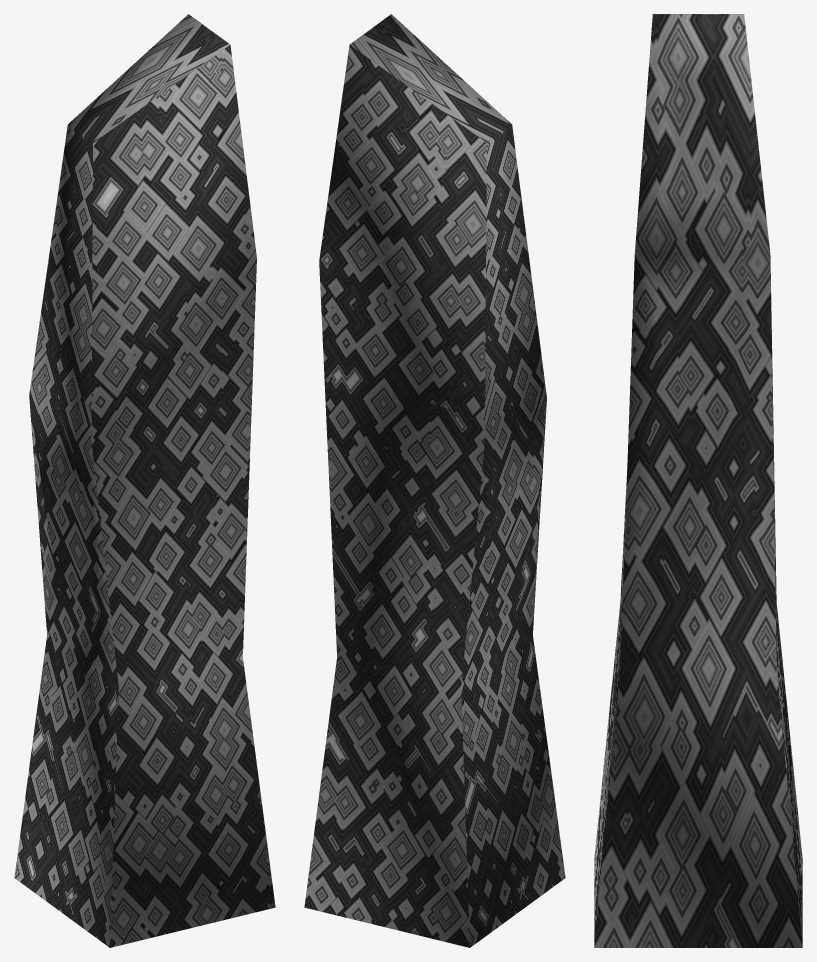
File: Cactus2.fbx
3 views of the same model, side by side, from view 1: azimuth 30°, elevation 25°; view 2: azimuth 150°, elevation 25°; view 3: azimuth 270°, elevation 25° (orthographic). The views are drawn at different scales.
Visible parts, largest first — view 1: Cube.001; view 2: Cube.001; view 3: Cube.001.
Part boxes in pixels (x1,y1,x2,y2): Cube.001: (14,14,275,947); Cube.001: (304,14,565,947); Cube.001: (594,14,802,947).
Bounding box in the file's own units: 54.01 × 264 × 54.01.
Materials: 1 (1 with a texture image).
